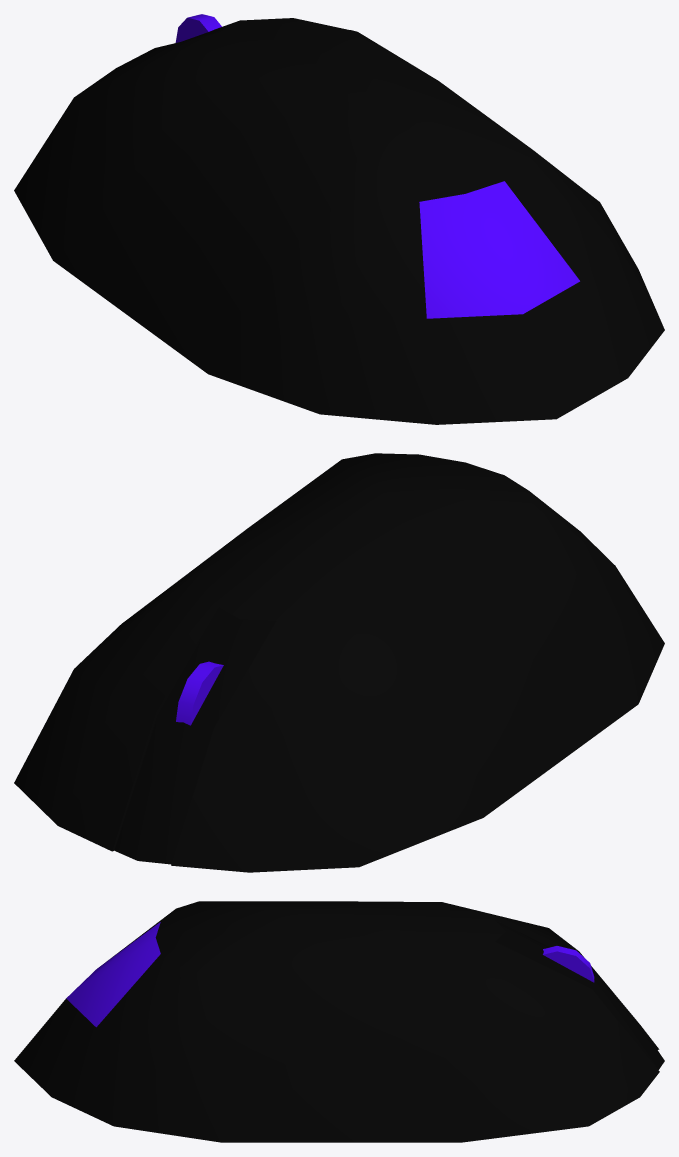
File: Mouse.FBX
3 renders of one model, top to bottom at view 1: azimuth 30°, elevation 25°; view 2: azimuth 150°, elevation 25°; view 3: azimuth 270°, elevation 25°, orthographic. The views are drawn at different scales.
Visible parts, largest first — view 1: Sphere001; view 2: Sphere001; view 3: Sphere001.
Part boxes in pixels (box(x1,y1,x2,y2)): Sphere001: box(14, 14, 664, 424); Sphere001: box(14, 453, 664, 872); Sphere001: box(14, 901, 664, 1142).
Size of the model in its own units: 5.33 by 2.26 by 8.98.
